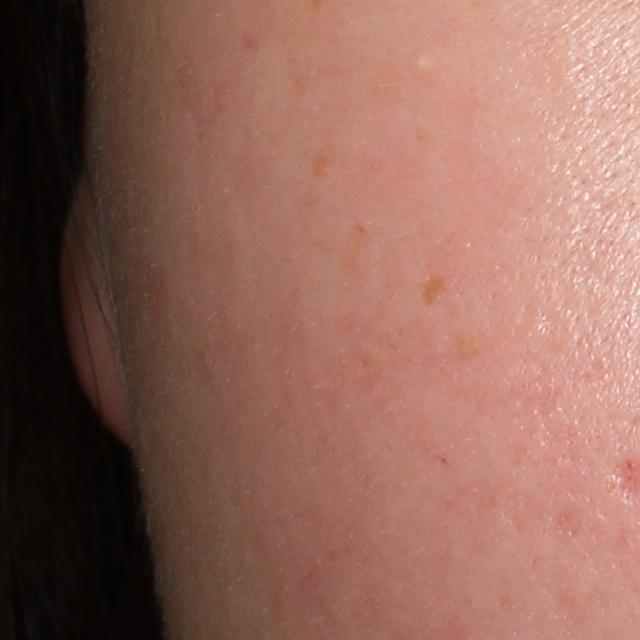comedo: (409, 51, 440, 80)
melasma: (312, 138, 342, 179), (420, 274, 450, 307)
